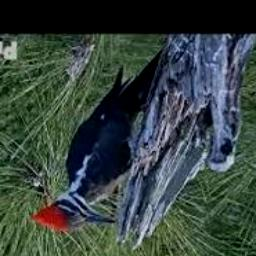Woodpecker: (32, 46, 166, 232)
